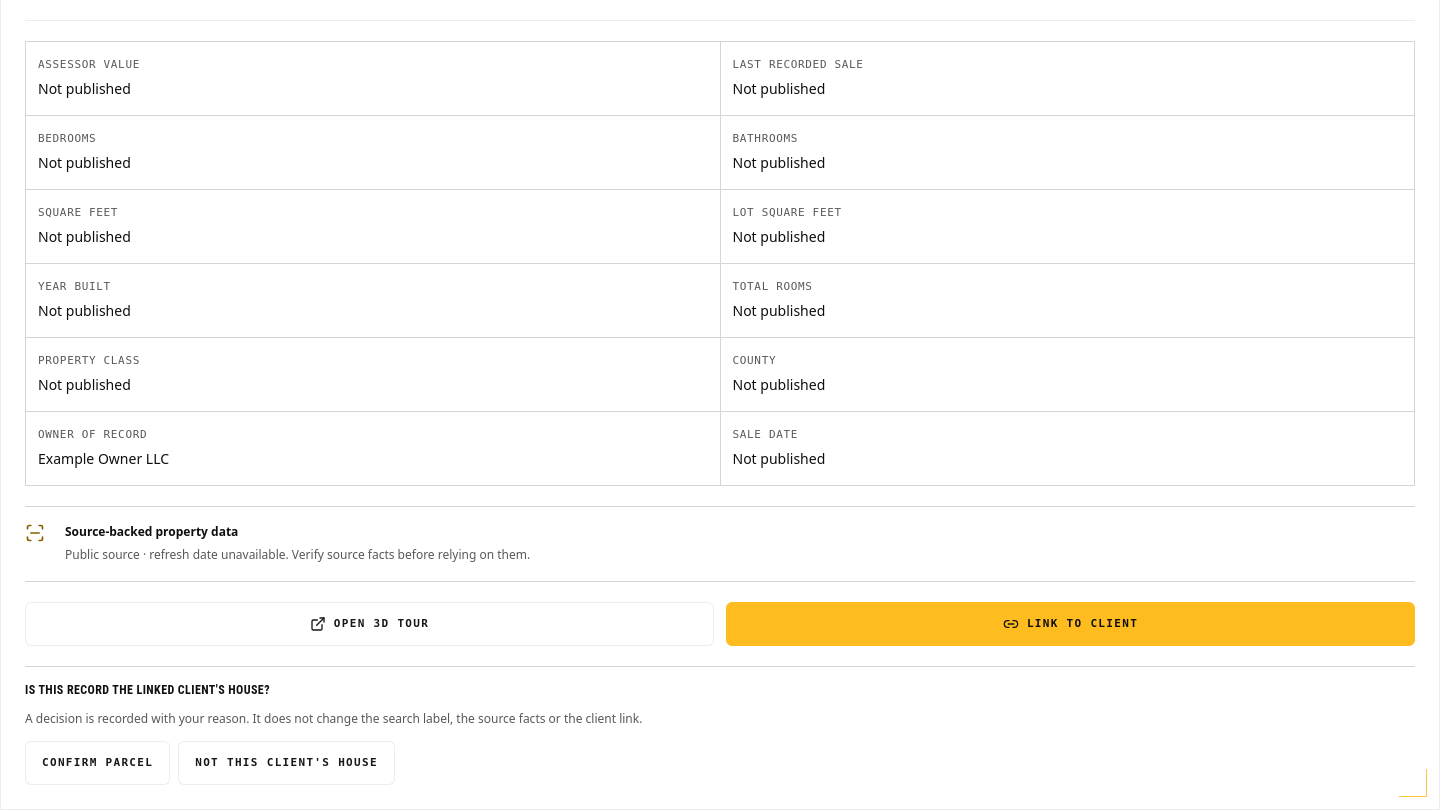
HouseWorkspace house decision form › refuses a reason under 8 characters without sending anything
(page scrolled)
Click the button "Confirm parcel" at (98, 763), box 25,741 -> 170,785
(page scrolled)
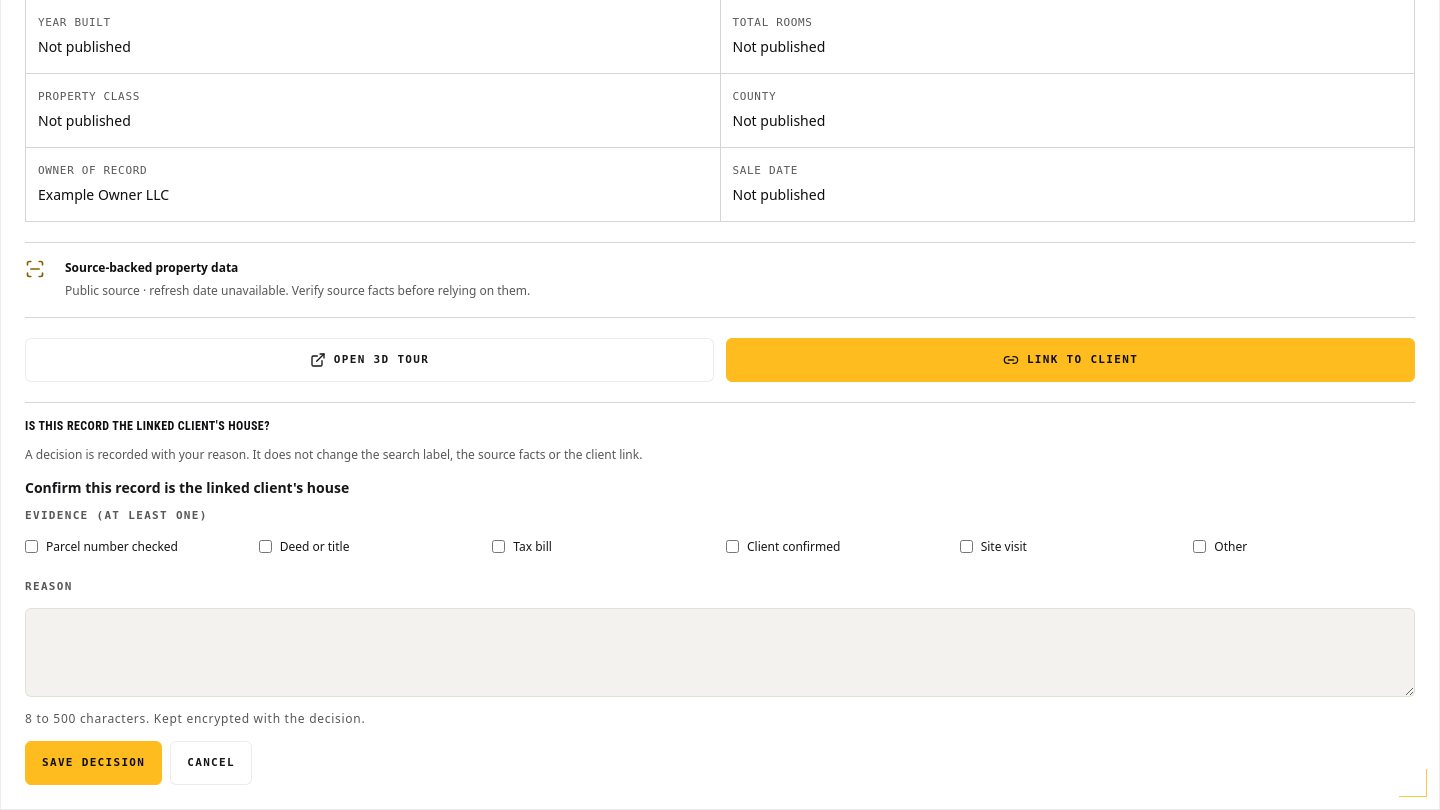
Click the checkbox labelled "Parcel number checked" at (32, 547), box 25,540 -> 38,554
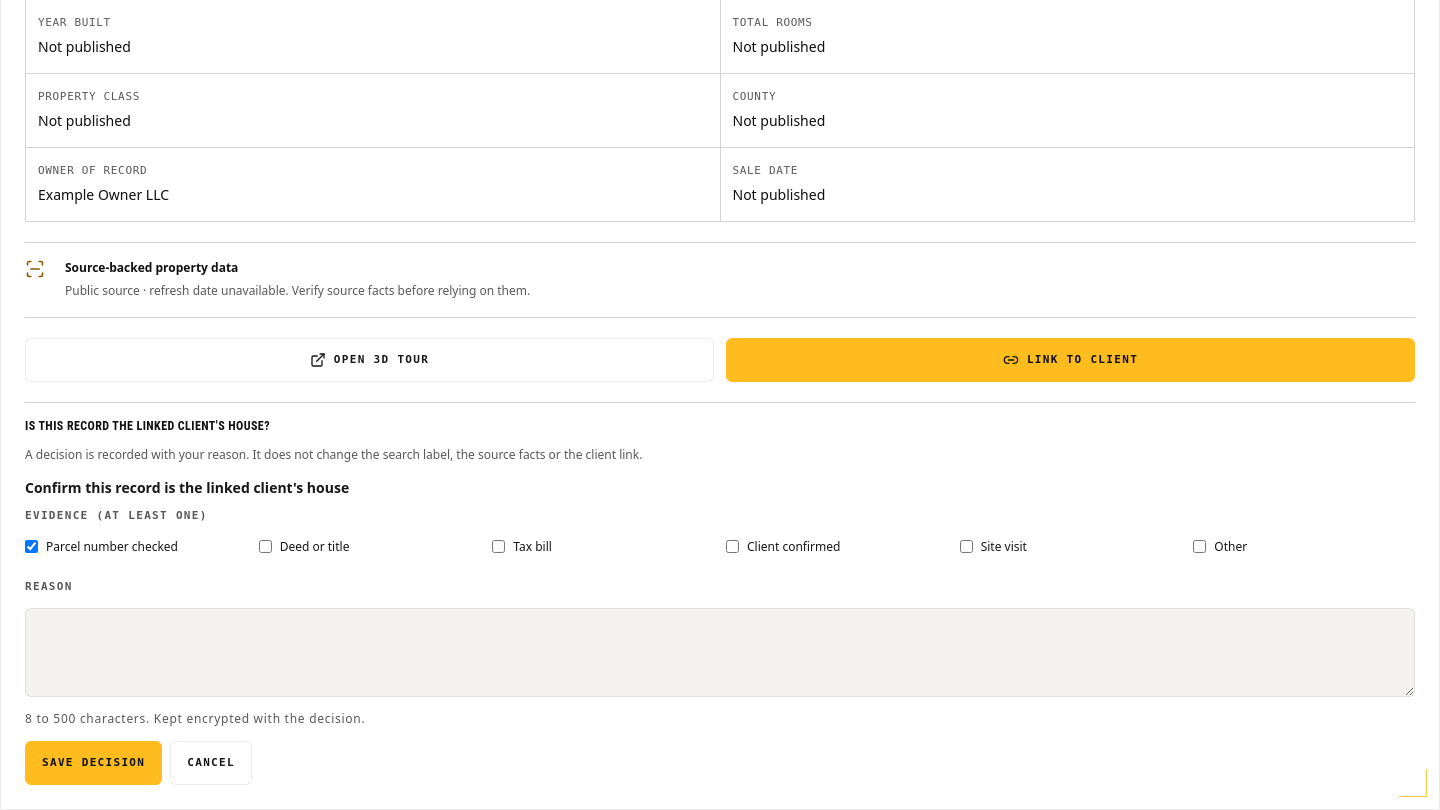
Type "ok fine" into the text box labelled "Reason" at (720, 652), box 25,608 -> 1415,697
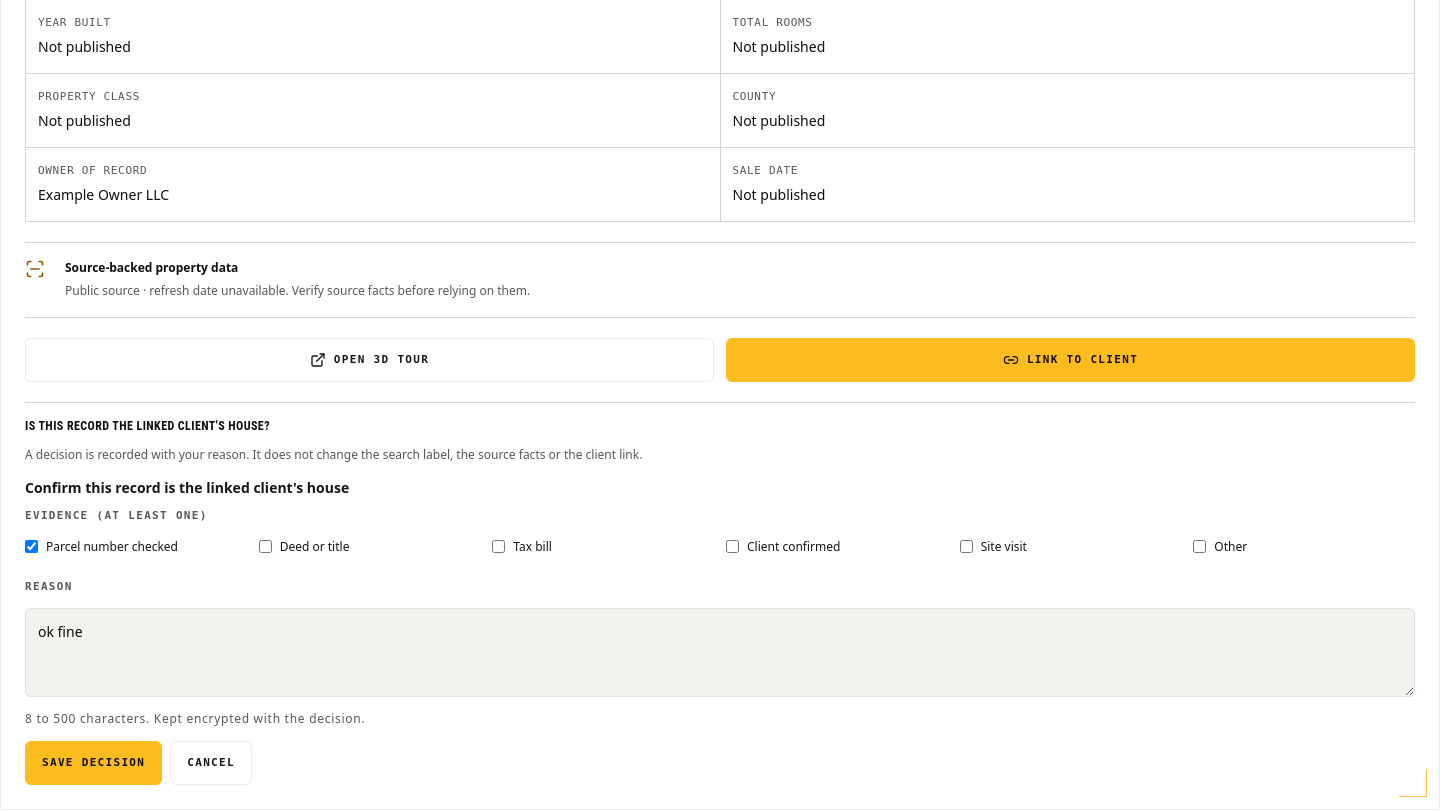
Click the button "Save decision" at (94, 763), box 25,741 -> 162,785
(page scrolled)
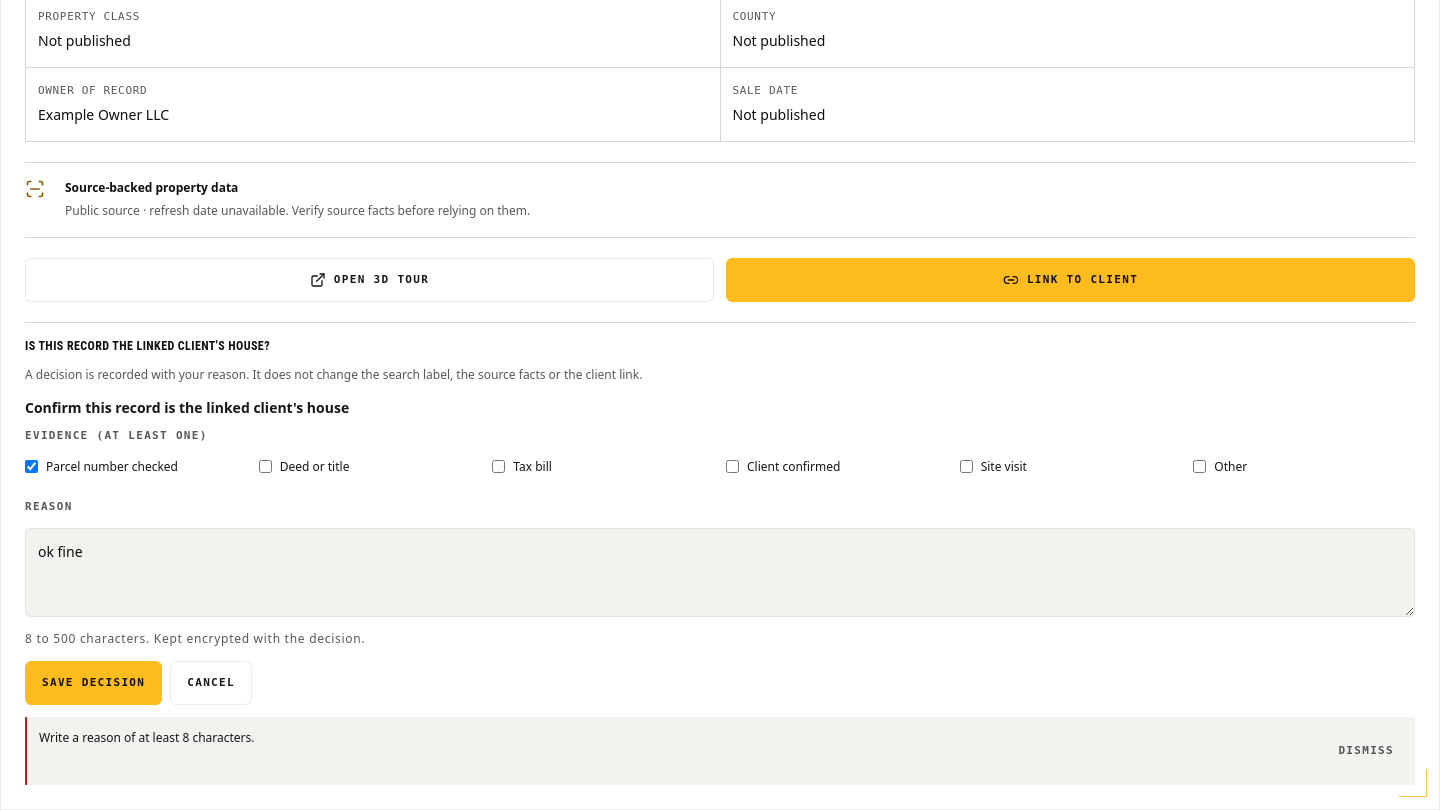
Expected: the message shows "at least 8 characters", 39,729 -> 254,746
